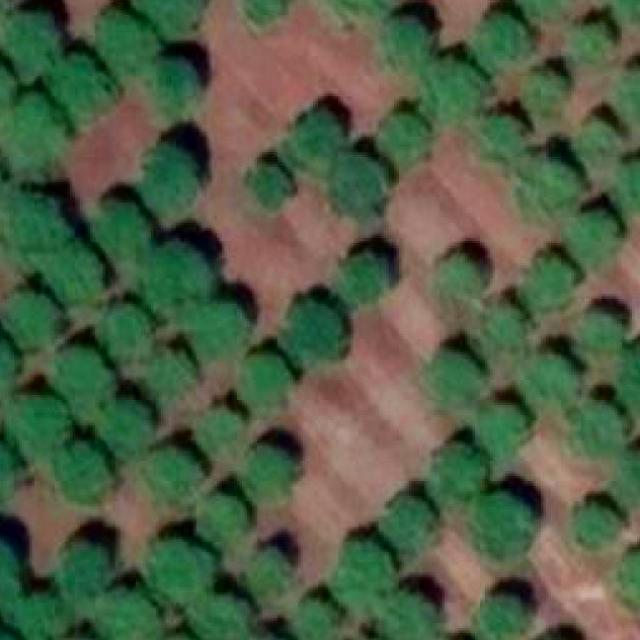Tree: (0, 91, 67, 178), (467, 481, 546, 552), (138, 238, 212, 312), (282, 101, 351, 172), (336, 540, 404, 610), (92, 192, 159, 262), (0, 390, 67, 458), (510, 150, 580, 214), (138, 441, 204, 508), (149, 534, 212, 604), (93, 3, 151, 77), (372, 10, 440, 73), (93, 294, 156, 362), (93, 390, 161, 453), (144, 142, 210, 206), (559, 390, 622, 456), (0, 187, 68, 248), (417, 54, 482, 117), (49, 56, 112, 120), (381, 491, 442, 557), (0, 8, 60, 74), (7, 284, 68, 348), (95, 584, 164, 640), (420, 347, 480, 411), (38, 238, 100, 299), (54, 534, 113, 598), (46, 347, 108, 407), (428, 441, 487, 504), (234, 347, 298, 405), (468, 8, 530, 66), (57, 443, 112, 508), (469, 398, 527, 459), (17, 579, 75, 640), (144, 46, 201, 108), (187, 398, 244, 460), (193, 296, 252, 355), (564, 307, 624, 365), (570, 200, 627, 259), (333, 246, 396, 299), (473, 584, 531, 640), (194, 584, 252, 640), (376, 587, 436, 640), (523, 347, 581, 401), (428, 248, 483, 304), (289, 299, 343, 356), (332, 147, 386, 203), (565, 498, 619, 554), (521, 255, 574, 312), (561, 20, 619, 72), (243, 446, 300, 498), (240, 157, 293, 212), (197, 491, 249, 547), (475, 309, 529, 361), (147, 350, 201, 398), (474, 111, 525, 161), (518, 66, 566, 119), (241, 550, 289, 602), (292, 592, 343, 640), (129, 0, 207, 29), (377, 111, 424, 159), (0, 319, 25, 401), (576, 119, 614, 168), (619, 331, 640, 419), (614, 71, 640, 138), (0, 532, 19, 618), (621, 438, 640, 520), (242, 0, 285, 29)
